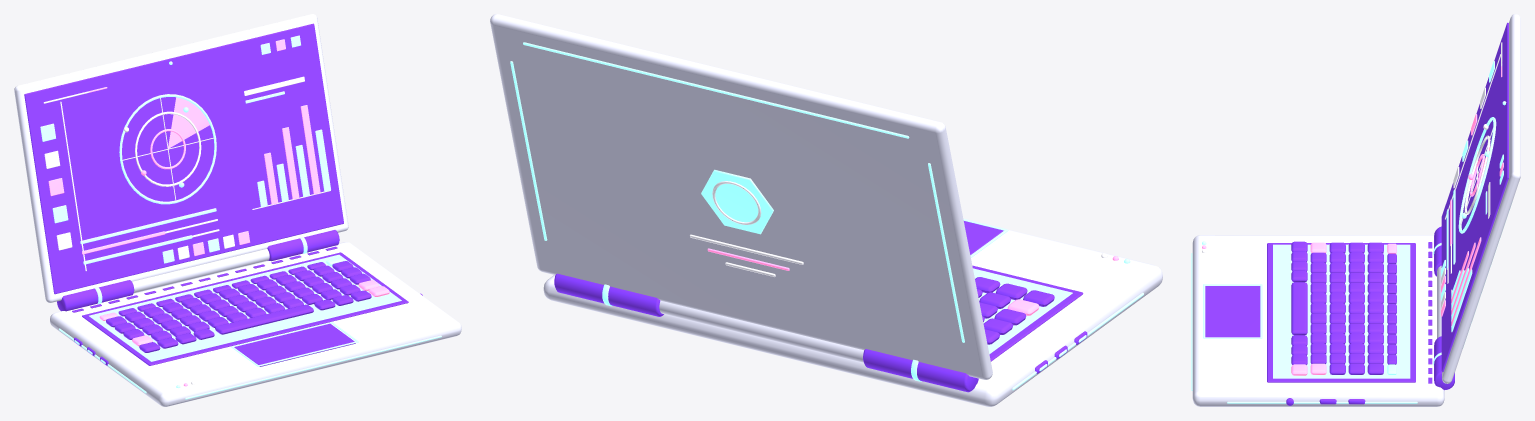
The model's file is projects.glb.
The picture shows the model from 3 angles, left to right: view 1: azimuth 30°, elevation 25°; view 2: azimuth 150°, elevation 25°; view 3: azimuth 270°, elevation 25°; orthographic projection. The views are drawn at different scales.
Visible parts, largest first — view 1: projects; view 2: projects; view 3: projects.
Part boxes in pixels (box(x1,y1,x2,y2)): projects: box(14, 14, 461, 406); projects: box(490, 14, 1162, 406); projects: box(1191, 14, 1520, 406).
Bounding box in the file's own units: 2 × 1.37 × 1.7.
